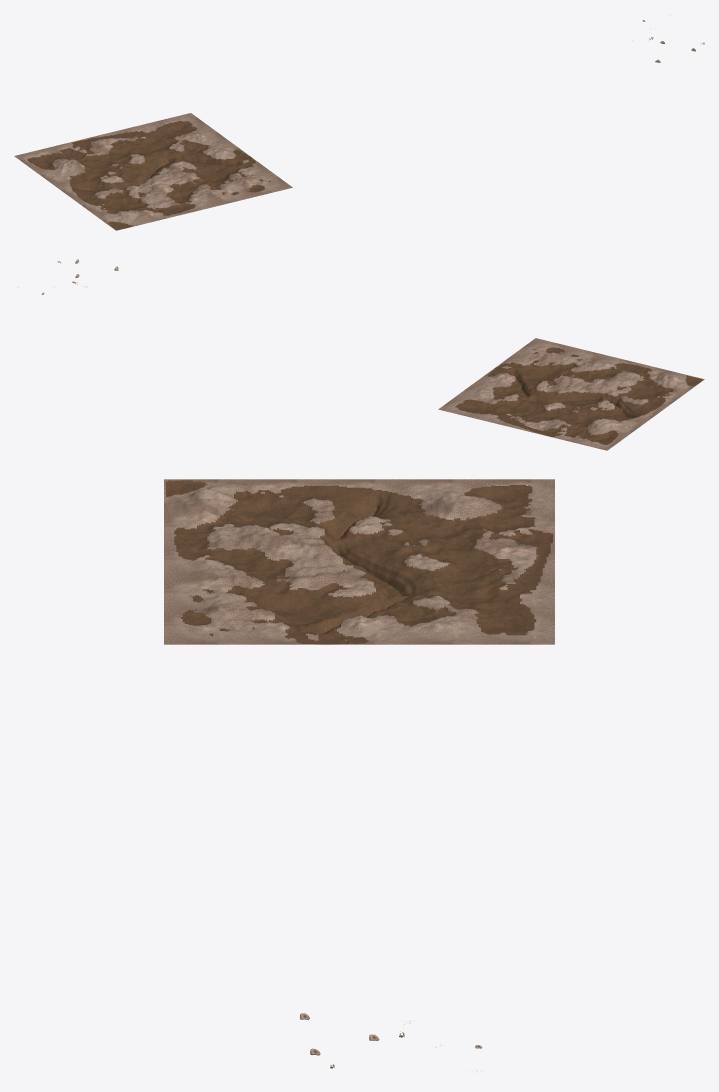
File: terrain_desert_canyon_hd.glb
3 renders of one model, top to bottom at view 1: azimuth 30°, elevation 25°; view 2: azimuth 150°, elevation 25°; view 3: azimuth 270°, elevation 25°, orthographic. The views are drawn at different scales.
Parts seen in each view (by area): view 1: CanyonFloor; view 2: CanyonFloor; view 3: CanyonFloor.
Part boxes in pixels (x1,y1,x2,y2): CanyonFloor: (14, 113, 292, 230); CanyonFloor: (438, 338, 704, 450); CanyonFloor: (164, 479, 554, 644).
Bounding box in the file's own units: 1088 × 26.52 × 300.
Materials: 3 (2 with a texture image).
